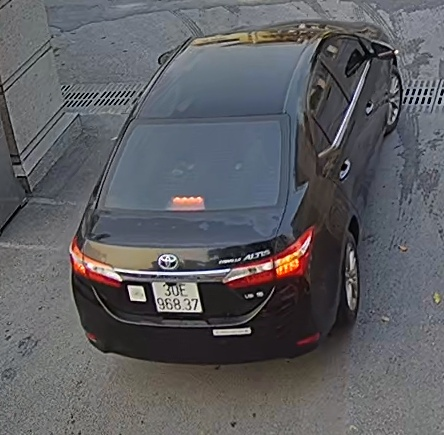vehicle plate: (146, 275, 207, 319)
